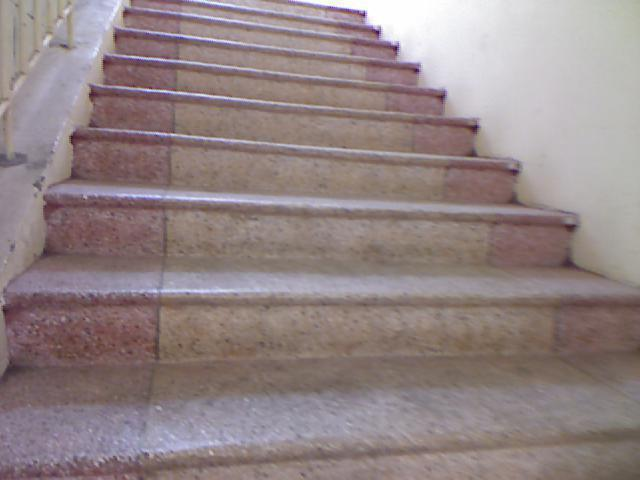Escaleras: (30, 7, 634, 469)
